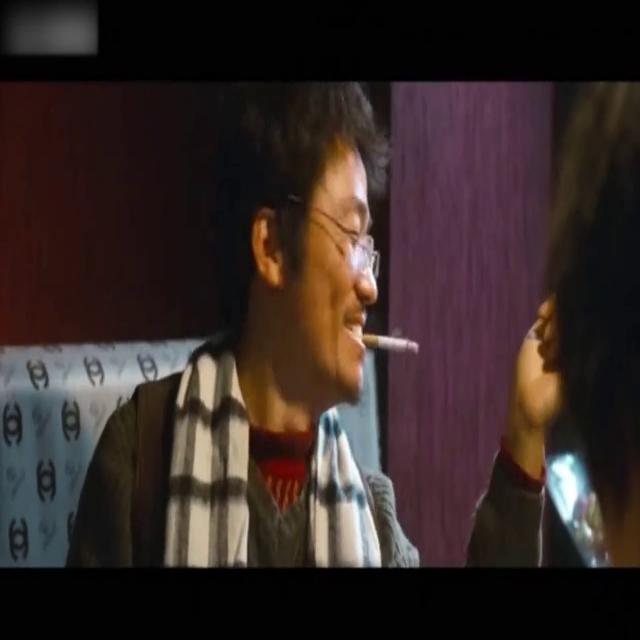smoking: (358, 326, 423, 359)
